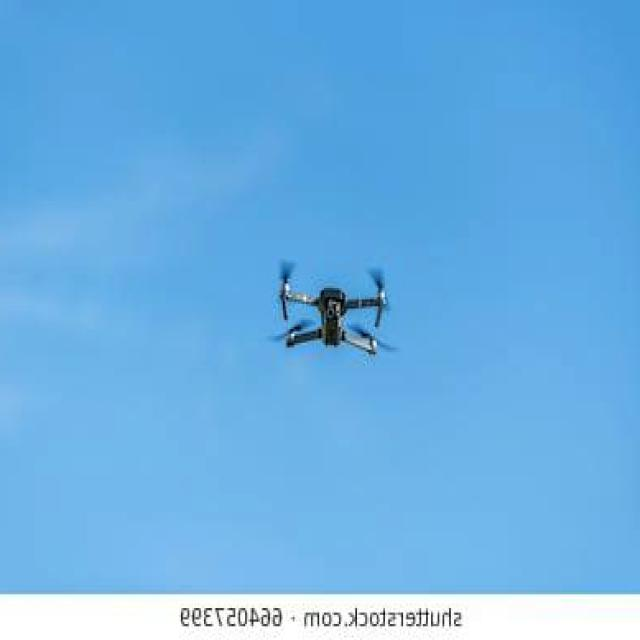drone: (263, 251, 402, 361)
